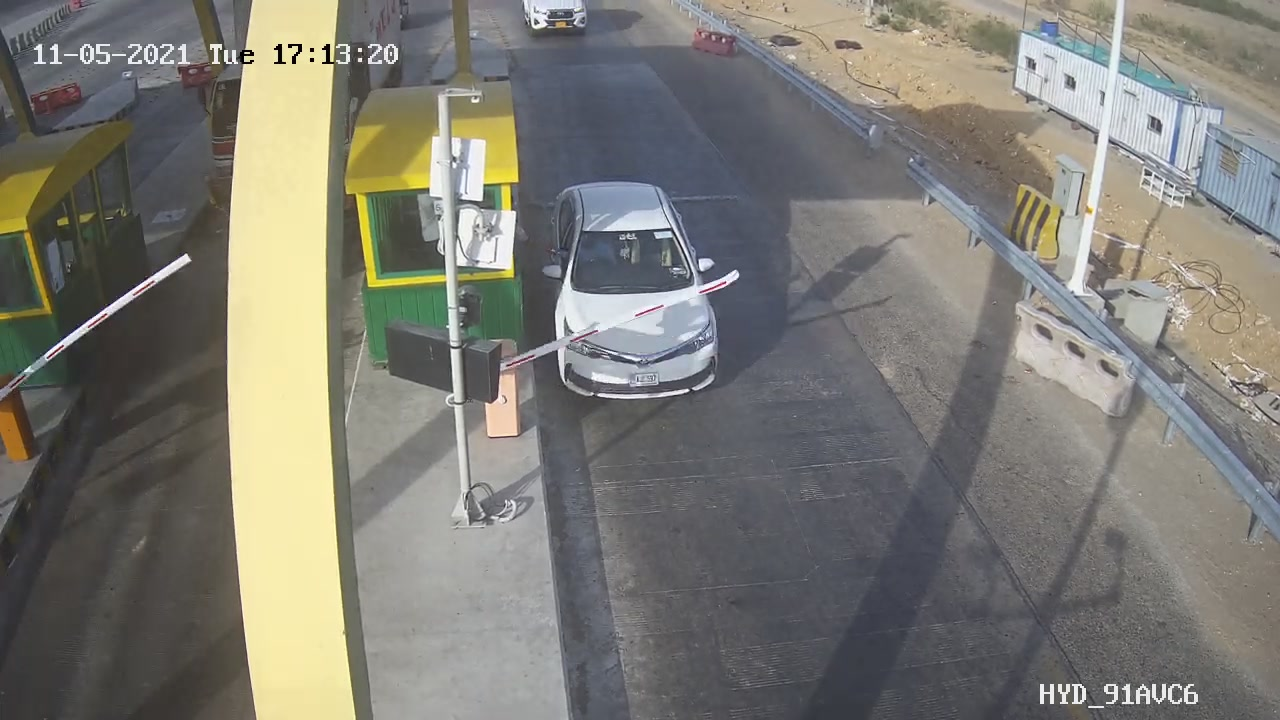F1: (526, 165, 738, 412)
